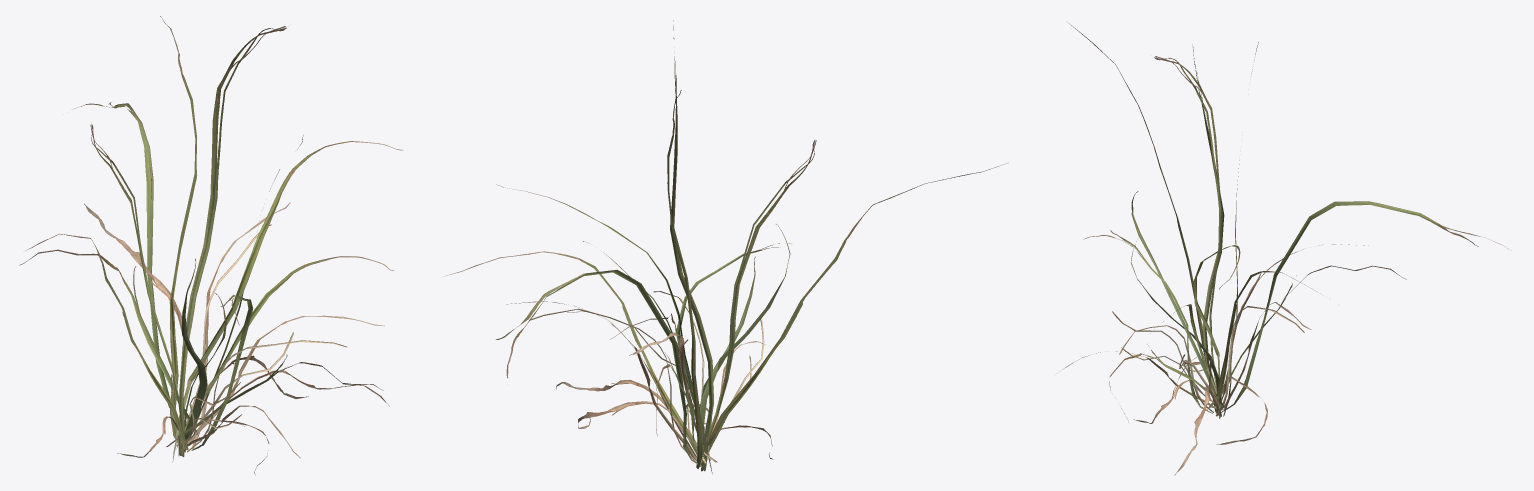
3 views of the same model, side by side, from view 1: azimuth 30°, elevation 25°; view 2: azimuth 150°, elevation 25°; view 3: azimuth 270°, elevation 25° (orthographic). The views are drawn at different scales.
Parts seen in each view (by area): view 1: grass_medium_02__c_lod0; view 2: grass_medium_02__c_lod0; view 3: grass_medium_02__c_lod0.
Boxes of the visible parts, bbox=[...] form: grass_medium_02__c_lod0: bbox=[19, 16, 403, 475]; grass_medium_02__c_lod0: bbox=[443, 20, 1007, 474]; grass_medium_02__c_lod0: bbox=[1062, 23, 1511, 475].
Size of the model in its own units: 0.272 by 0.2452 by 0.2606.
1 material, 1 textured.
